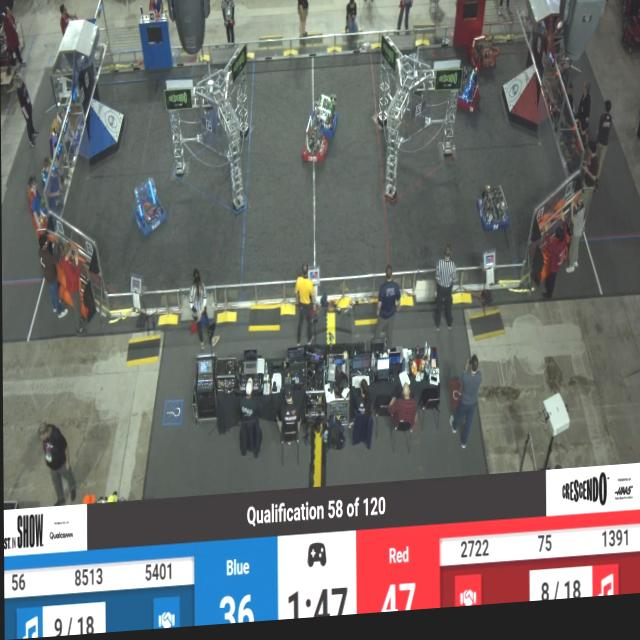Robot: (131, 179, 166, 243), (476, 186, 510, 242), (302, 118, 330, 173), (468, 35, 501, 81), (312, 96, 341, 148), (456, 68, 480, 121)
